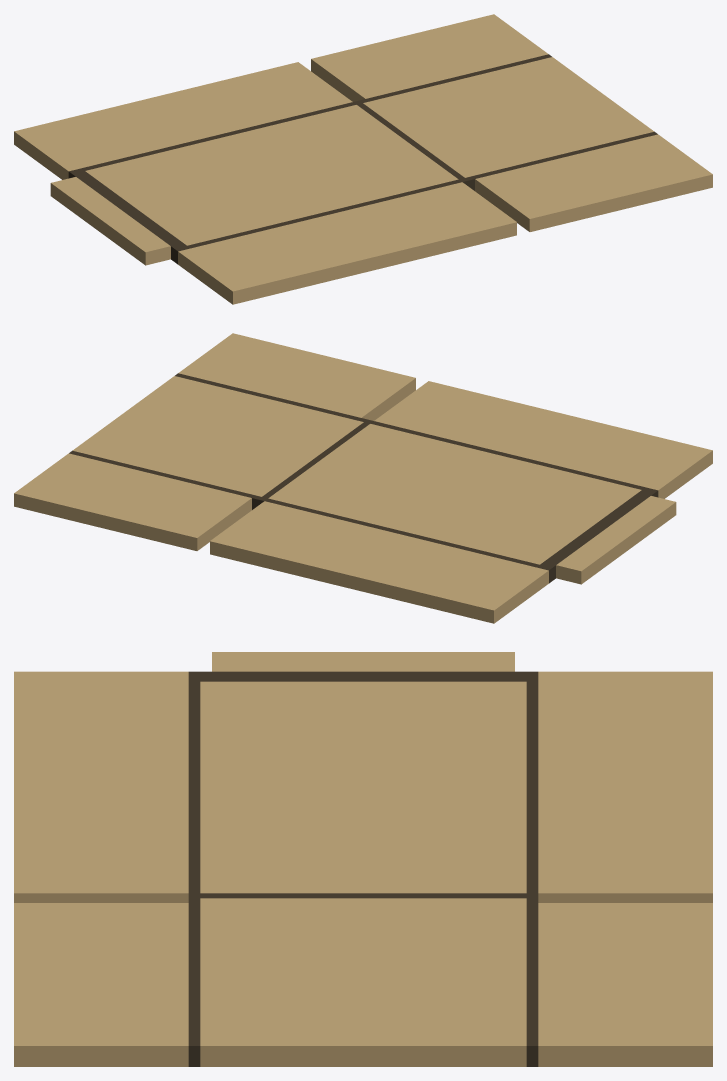
Rendered from box_small_folded.glb.
3 views of the same model, one above another, from view 1: azimuth 30°, elevation 25°; view 2: azimuth 150°, elevation 25°; view 3: azimuth 270°, elevation 25° (orthographic). The views are drawn at different scales.
Parts seen in each view (by area): view 1: box_small_folded:compound; view 2: box_small_folded:compound; view 3: box_small_folded:compound.
Boxes of the visible parts, bbox=[...] form: box_small_folded:compound: bbox=[14, 14, 712, 304]; box_small_folded:compound: bbox=[14, 333, 712, 623]; box_small_folded:compound: bbox=[14, 652, 712, 1066].
Size of the model in its own units: 0.32 by 0.008 by 0.24.
